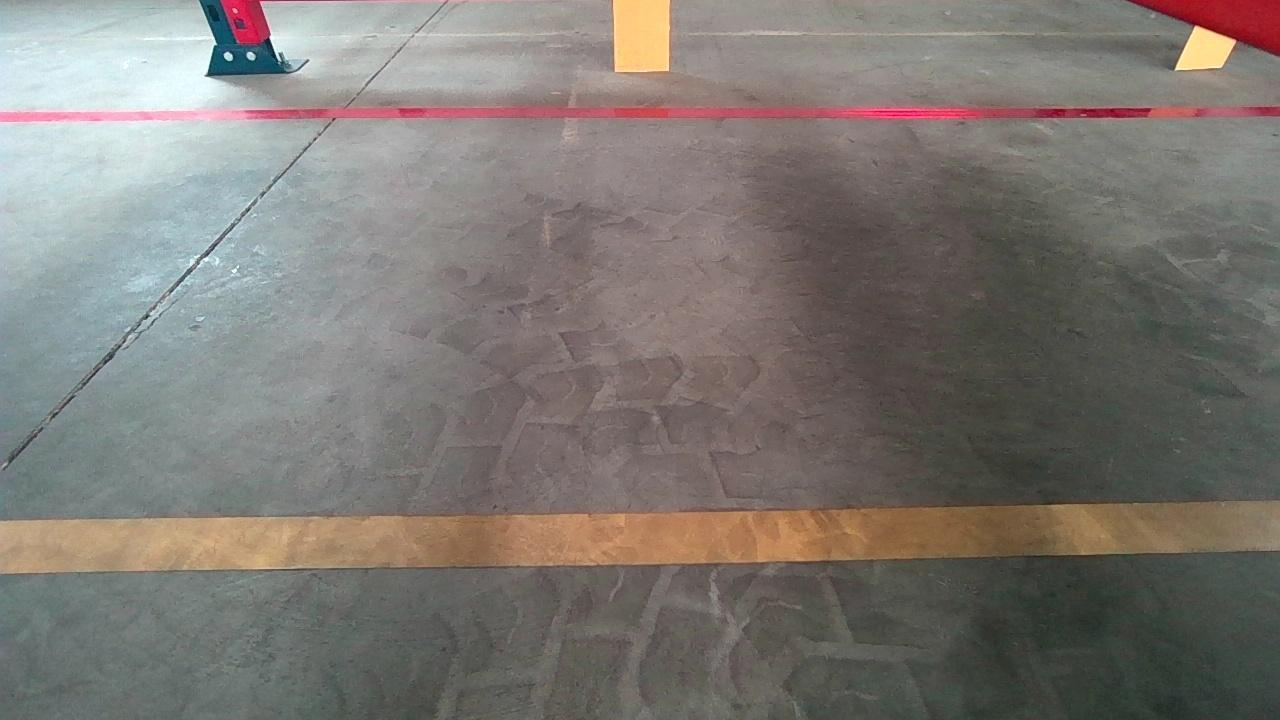orange_strip: (614, 0, 670, 71), (1175, 22, 1240, 70)
red_line: (3, 101, 1275, 138)
yellow_line: (5, 499, 1270, 575)
